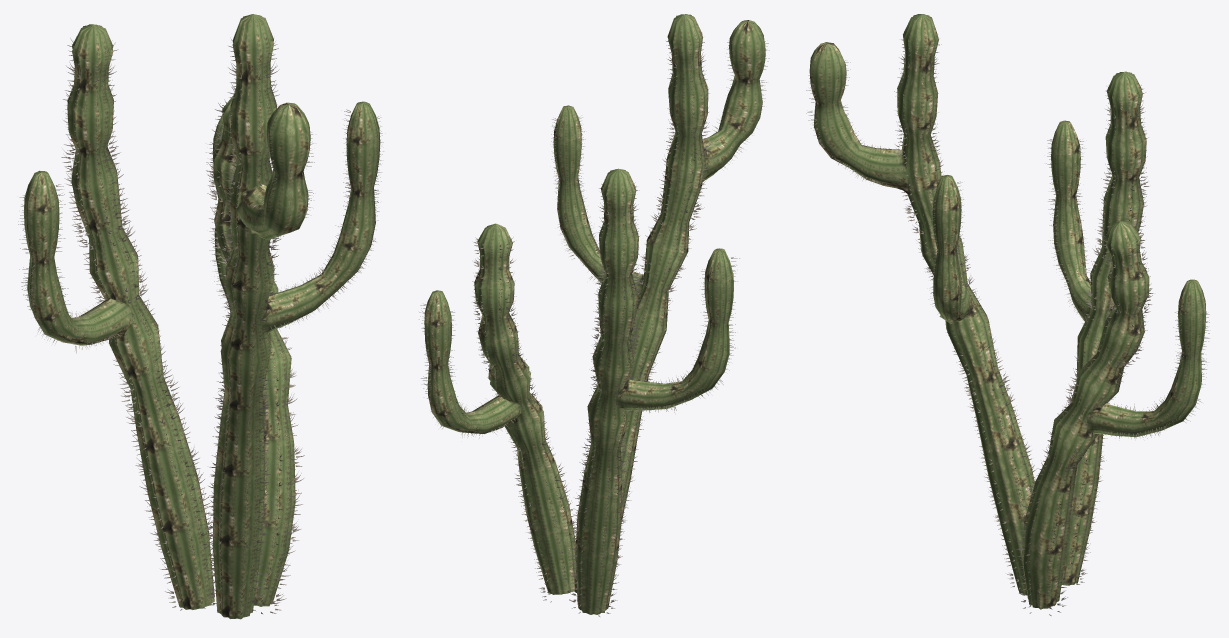
The model's file is cactus2.fbx.
3 views of the same model, side by side, from view 1: azimuth 30°, elevation 25°; view 2: azimuth 150°, elevation 25°; view 3: azimuth 270°, elevation 25° (orthographic). The views are drawn at different scales.
Visible parts, largest first — view 1: Tree_0, Tree_1; view 2: Tree_0, Tree_1; view 3: Tree_0, Tree_1.
Part boxes in pixels (<box>): Tree_0: <box>24,14,380,619</box>; Tree_1: <box>18,38,383,615</box>; Tree_0: <box>424,14,765,614</box>; Tree_1: <box>419,37,769,616</box>; Tree_0: <box>809,14,1206,609</box>; Tree_1: <box>806,39,1209,615</box>.
Bounding box in the file's own units: 128 × 267 × 176.
2 materials, 2 textured.
